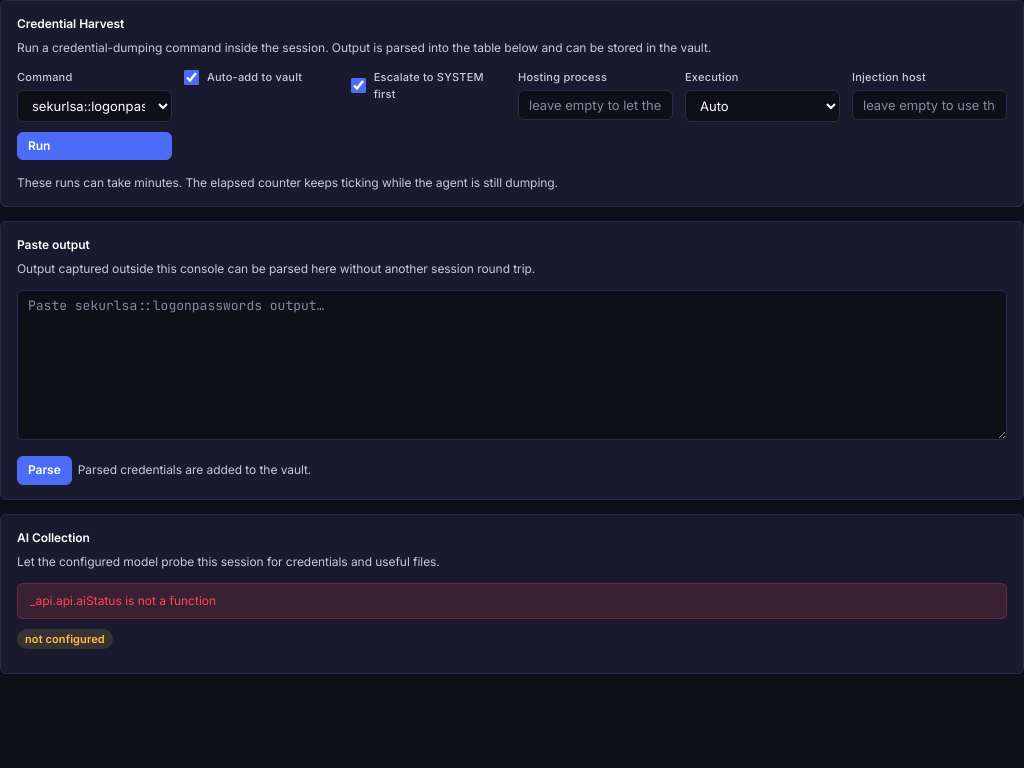
Test: HarvestTab › runs the command and renders the parsed credentials with a count
Expected: the dropdown labelled "Command" is shown, x1=17 y1=90 x2=172 y2=122
Click the button "Run" at (94, 146), box x1=17 y1=132 x2=172 y2=160
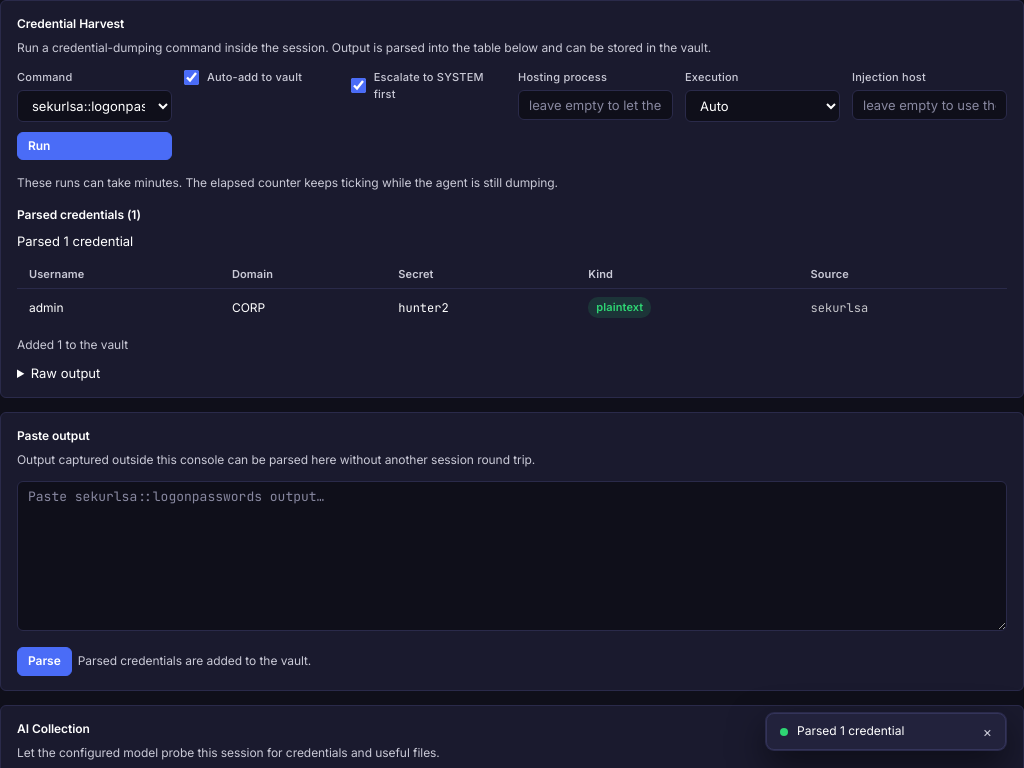
Now the text "admin" is shown, box x1=17 y1=289 x2=220 y2=326
Now the text "CORP" is shown, box x1=220 y1=289 x2=386 y2=326
Now the text "hunter2" is shown, box x1=386 y1=289 x2=576 y2=326
